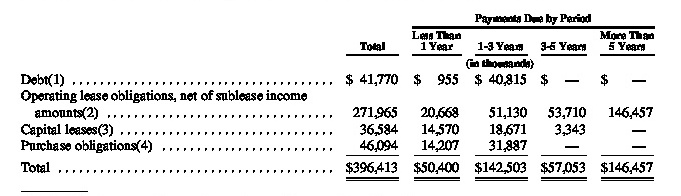table: (0, 0, 681, 196)
